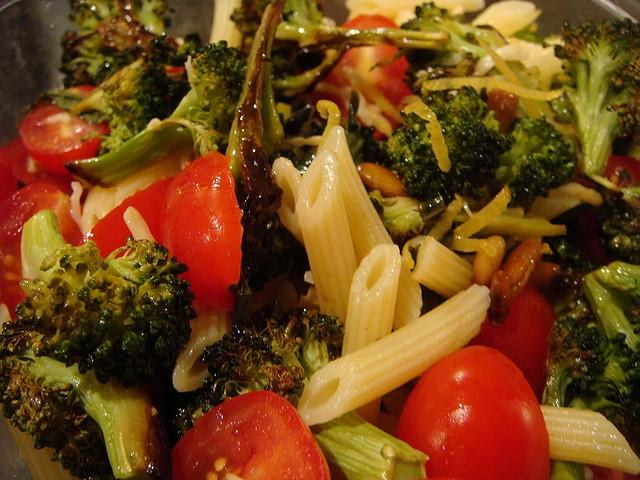broccoli: (168, 302, 430, 478), (0, 209, 199, 387), (64, 39, 248, 188), (0, 349, 165, 480), (358, 87, 514, 208), (550, 16, 640, 175), (229, 1, 450, 64), (70, 34, 198, 136), (58, 0, 179, 90), (540, 315, 640, 412), (489, 118, 579, 216), (542, 188, 638, 274), (580, 261, 640, 354), (401, 17, 487, 69), (415, 2, 507, 50), (78, 110, 134, 156)
tomato: (398, 344, 550, 480), (170, 390, 330, 480), (308, 14, 416, 140), (164, 151, 244, 310), (463, 282, 559, 404), (0, 183, 83, 322), (18, 85, 112, 178), (78, 176, 175, 258), (0, 138, 85, 198), (488, 88, 518, 132), (603, 156, 640, 188)
